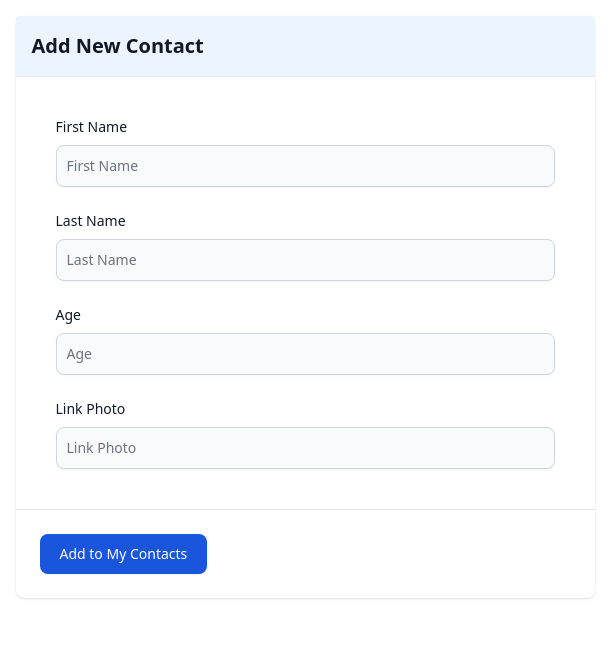
Test: AddContactPage Component › displays an error message when the form has missing fields
Click the button "Add to My Contacts" at (123, 554), box [40,534,207,574]
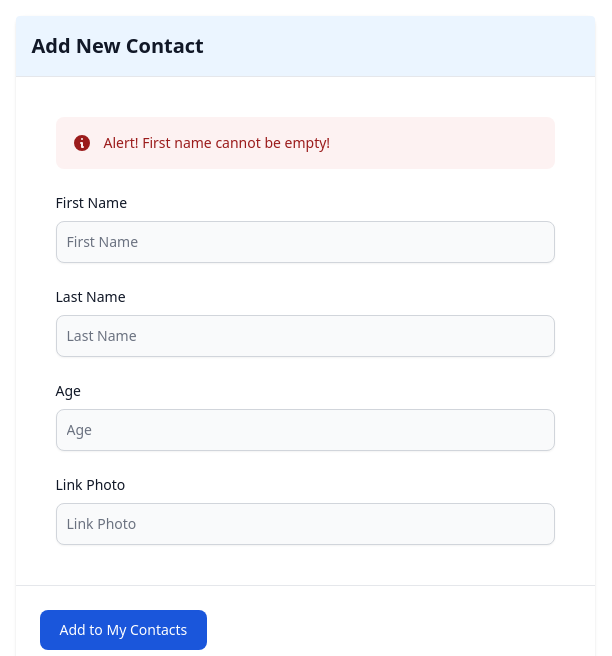
Expected: the text "First name cannot be empty!" is shown, [142,133,330,152]
